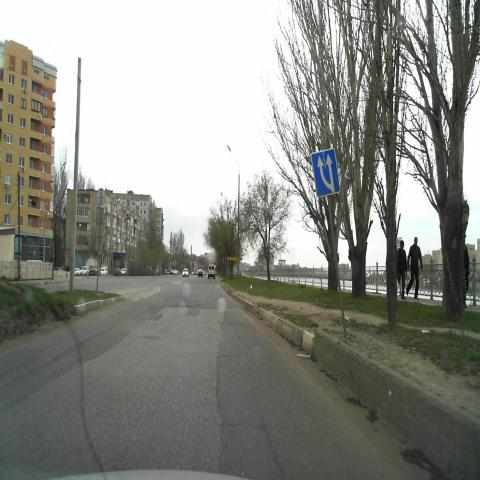5_15_3: (311, 148, 340, 198)
